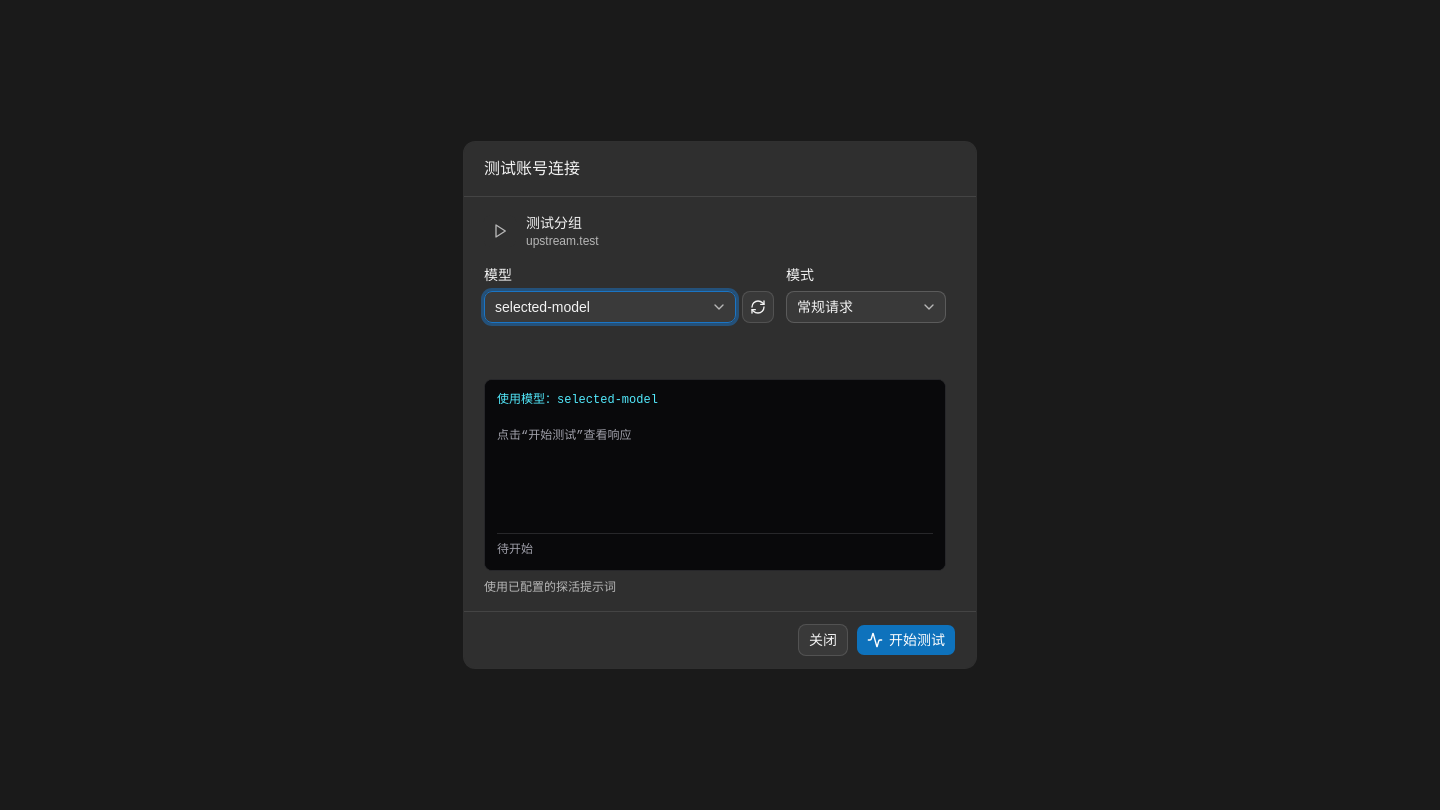
it: 模型检测在生成报告前失败时显示任务原因并保留重试入口
This screenshot has width=1440, height=810.
Expected: the button "开始测试" is enabled, x1=856 y1=624 x2=956 y2=656
Step 1. Click the dropdown named "选择测试模式" → coordinates (866, 307), box x1=786 y1=291 x2=946 y2=323
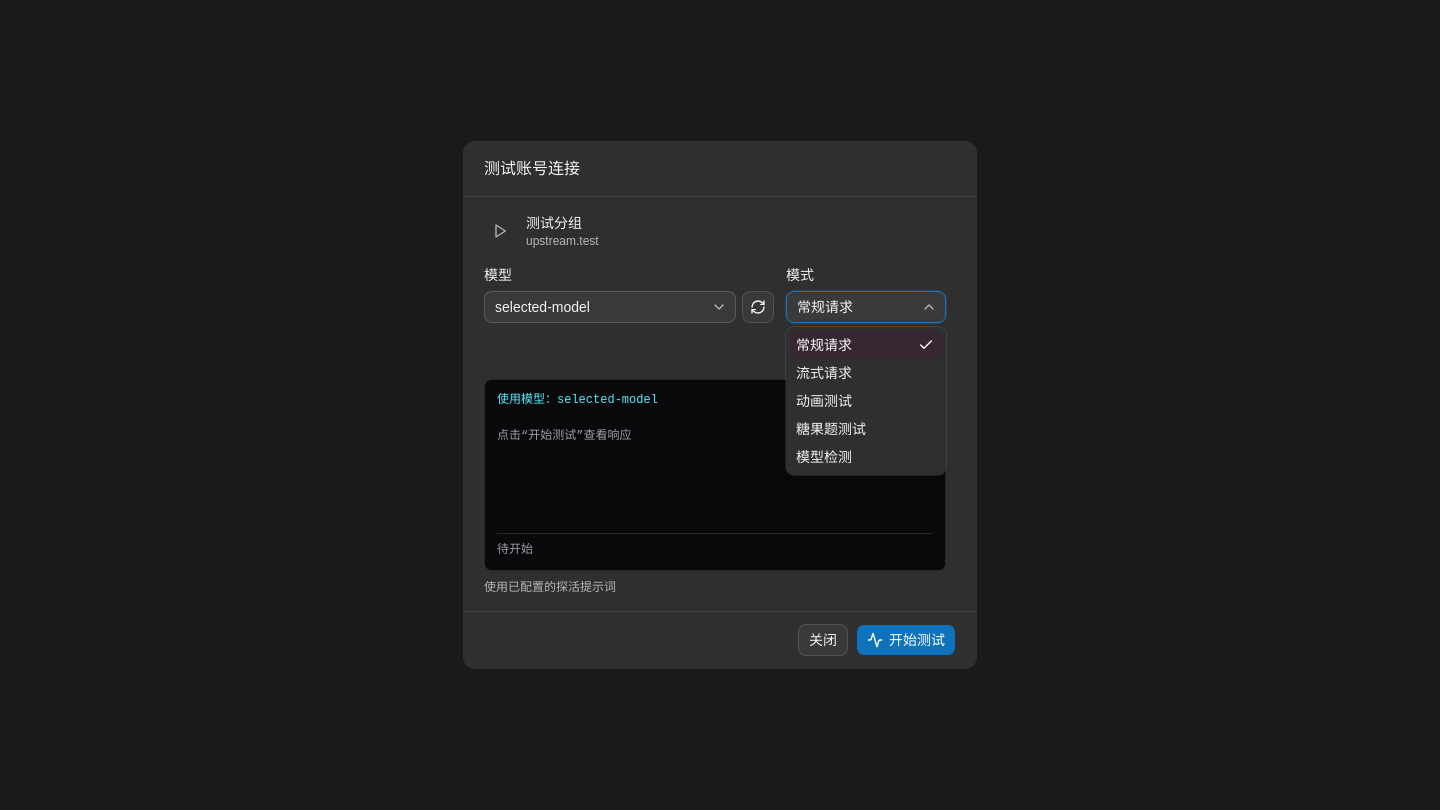
Step 2. Click the option "模型检测" → coordinates (824, 457), box x1=796 y1=449 x2=852 y2=465
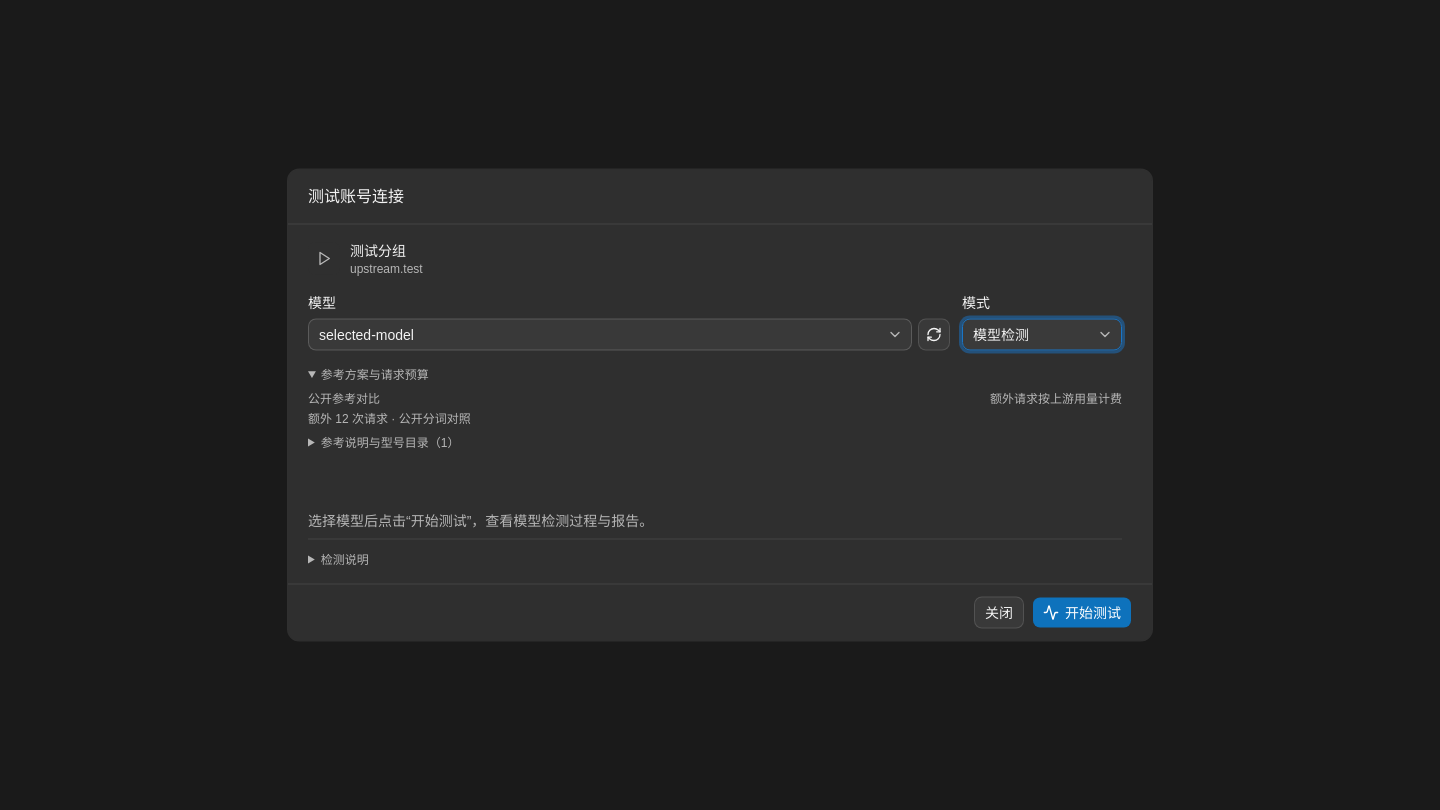
Step 3. Click the button "开始测试" → coordinates (1082, 612), box x1=1032 y1=596 x2=1132 y2=628
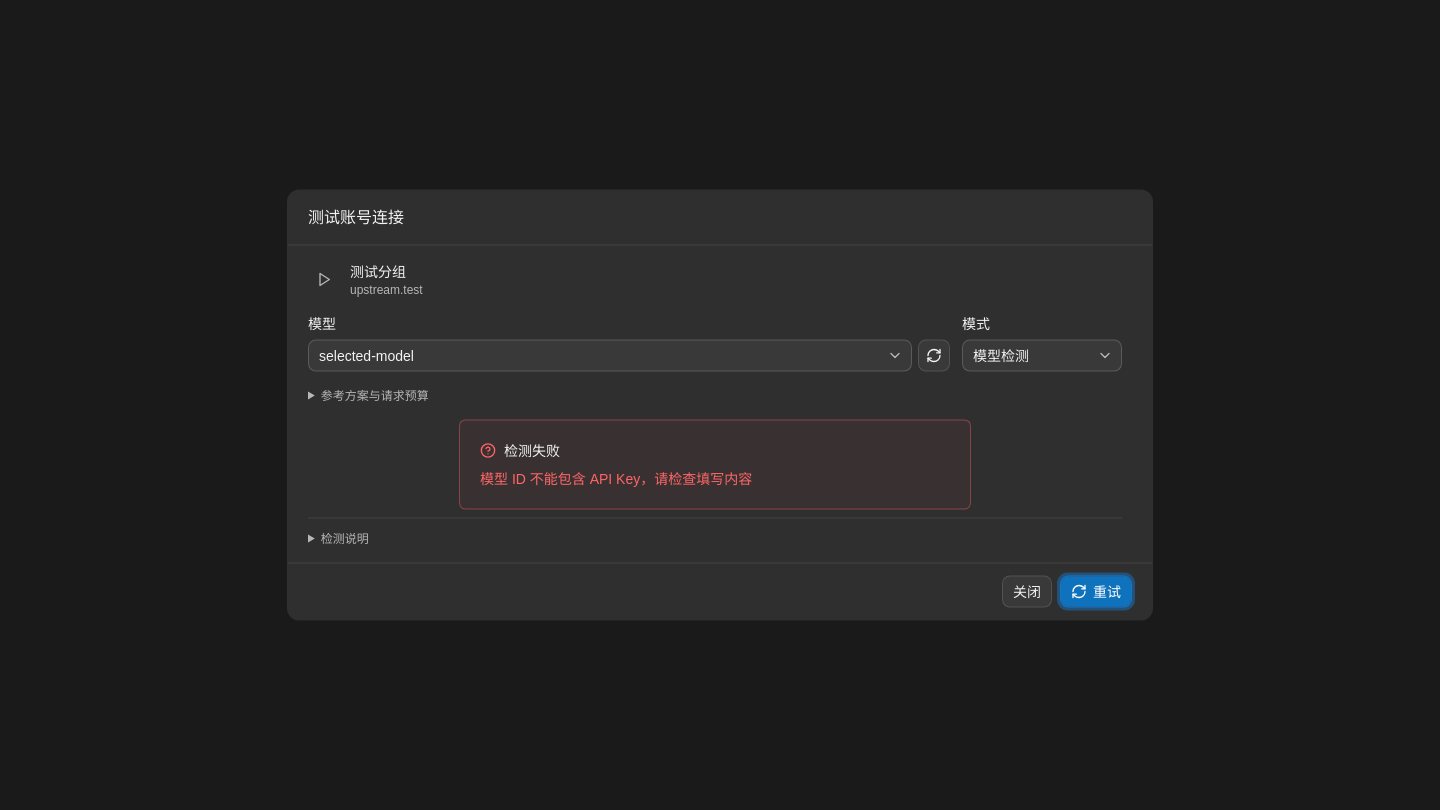
Expected: the button "重试" is enabled, x1=1060 y1=576 x2=1132 y2=608
Now the text "模型 ID 不能包含 API Key，请检查填写内容" is shown, box x1=480 y1=470 x2=752 y2=486
